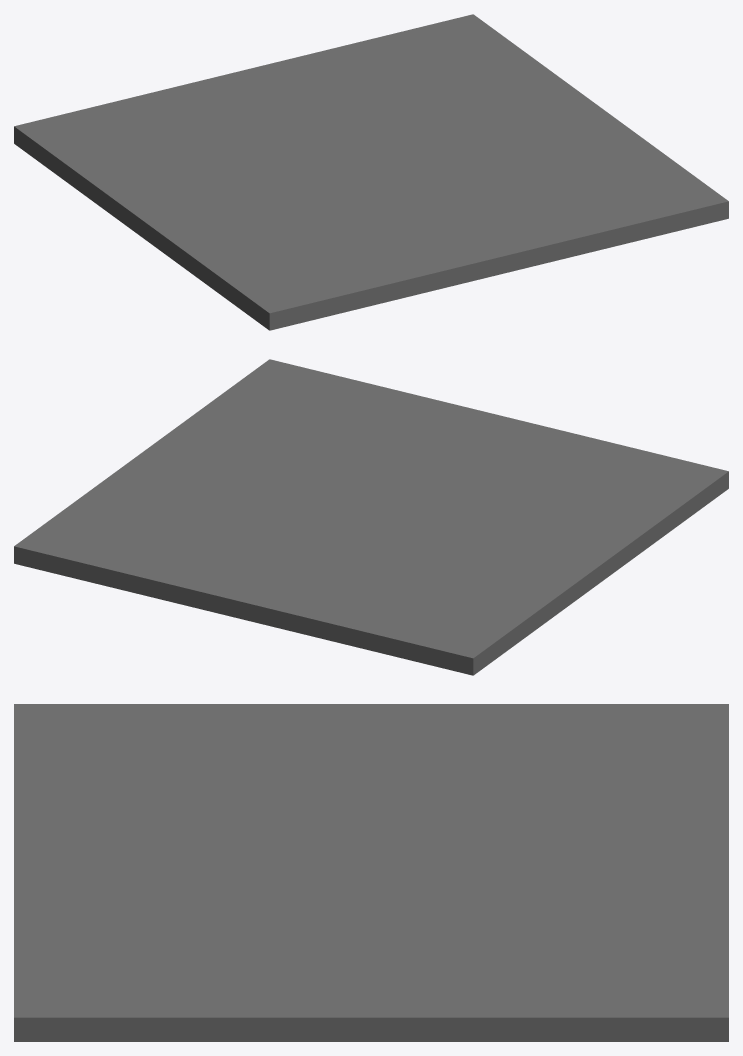
File: CeilingSide1.fbx
3 renders of one model, top to bottom at view 1: azimuth 30°, elevation 25°; view 2: azimuth 150°, elevation 25°; view 3: azimuth 270°, elevation 25°, orthographic. The views are drawn at different scales.
Parts seen in each view (by area): view 1: Ceiling.001; view 2: Ceiling.001; view 3: Ceiling.001.
Boxes of the visible parts, <box> form: Ceiling.001: <box>14,14,728,330</box>; Ceiling.001: <box>14,359,728,675</box>; Ceiling.001: <box>14,704,728,1041</box>.
Size of the model in its own units: 415 by 15 by 400.
